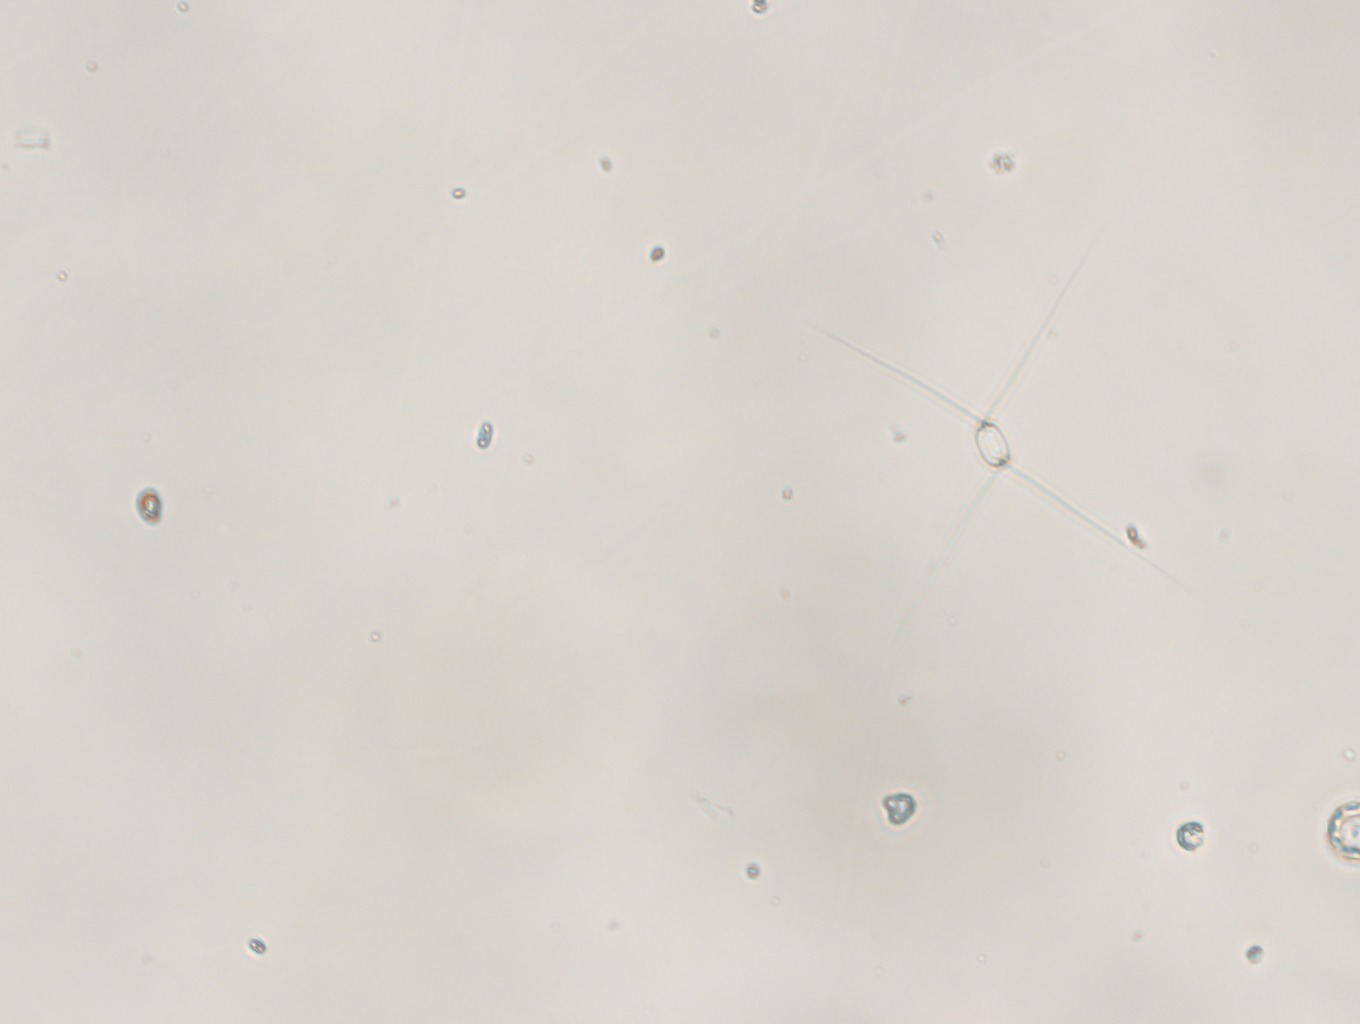chaetoceros: (802, 248, 1211, 608)
